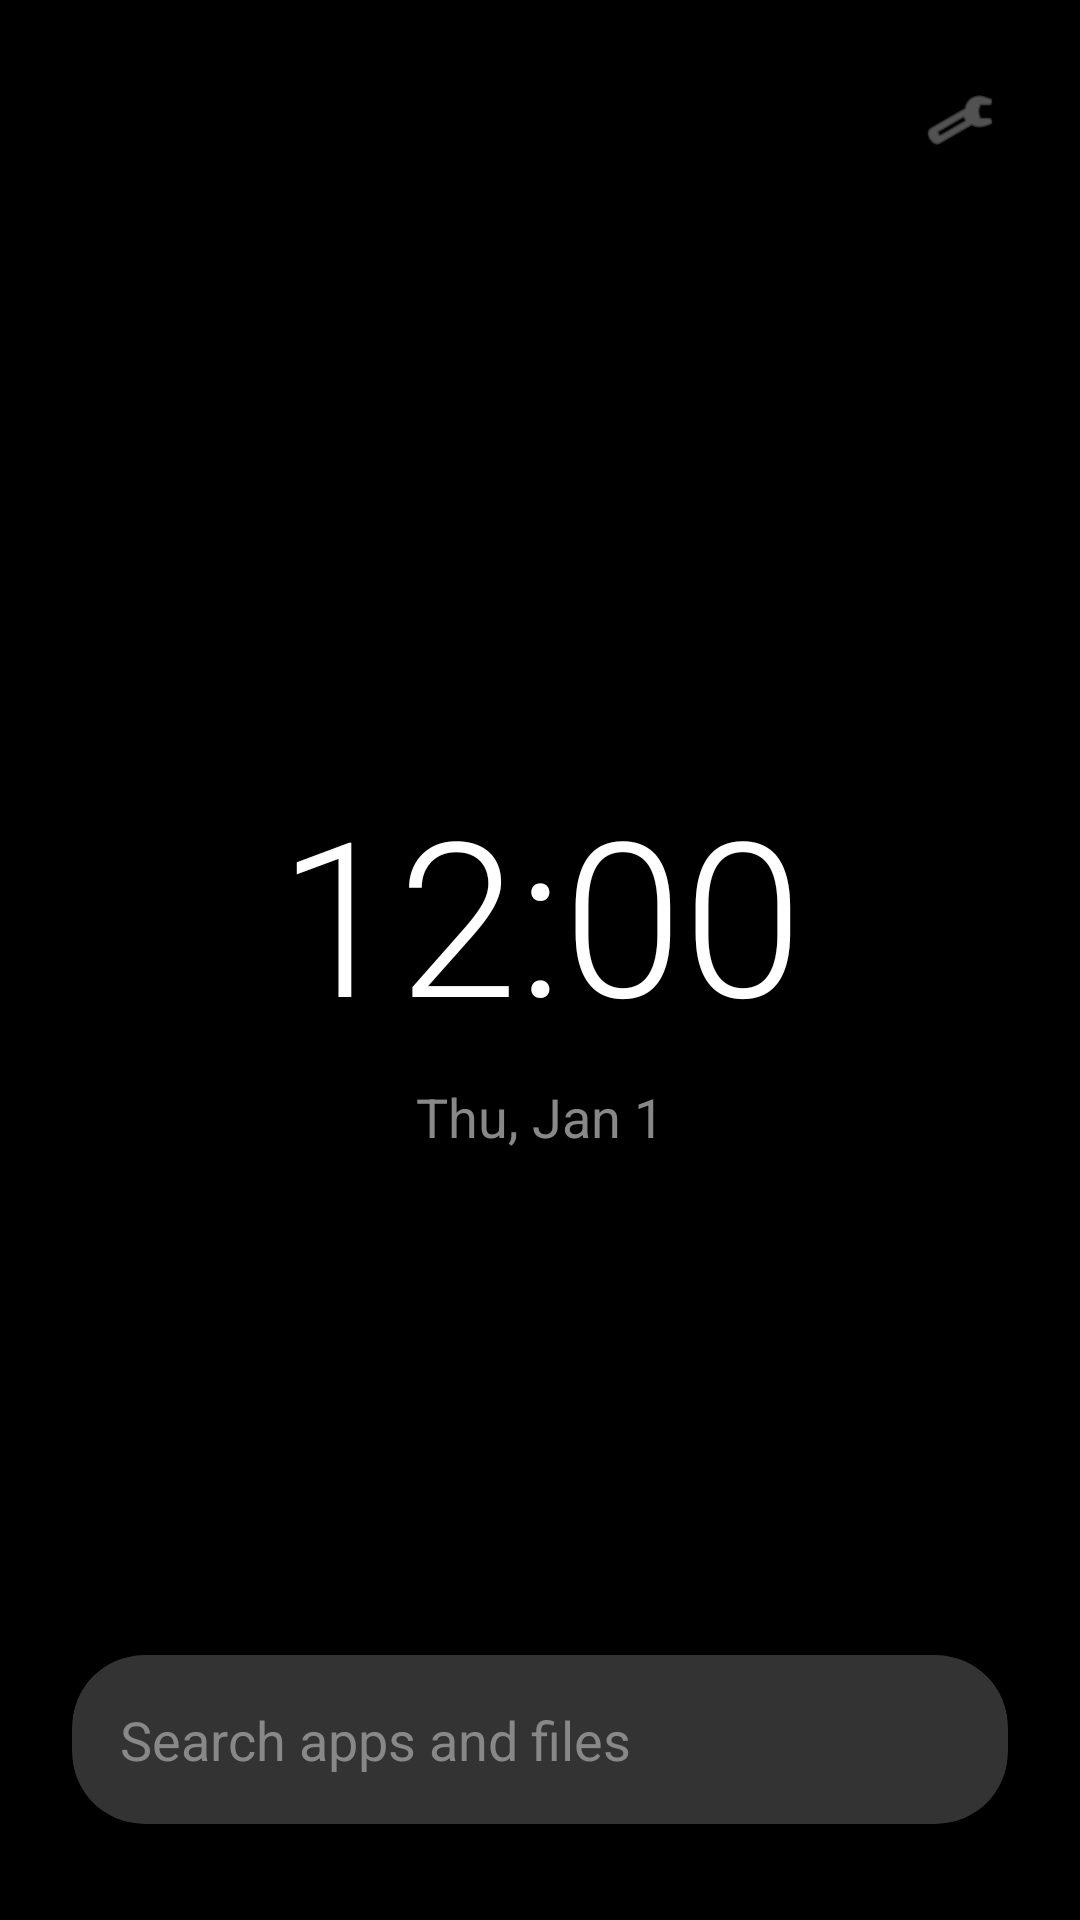

Locate icon controls on the screen. Image size 1080×1920, boxes as bbox(x1, y1, x2, y2).
Settings: bbox(928, 95, 992, 145)
